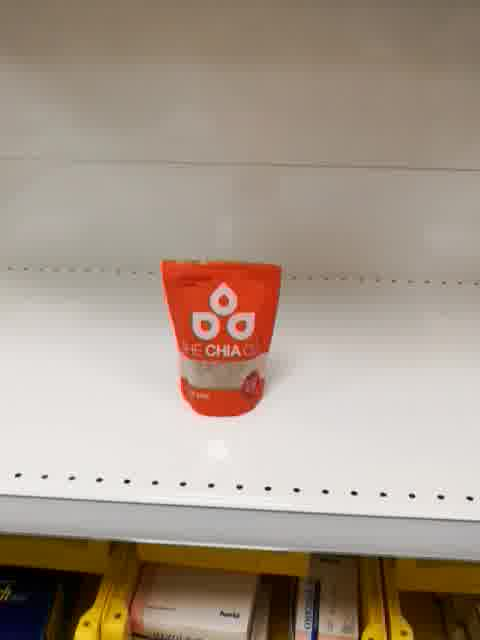whitechia: (158, 255, 285, 419)
